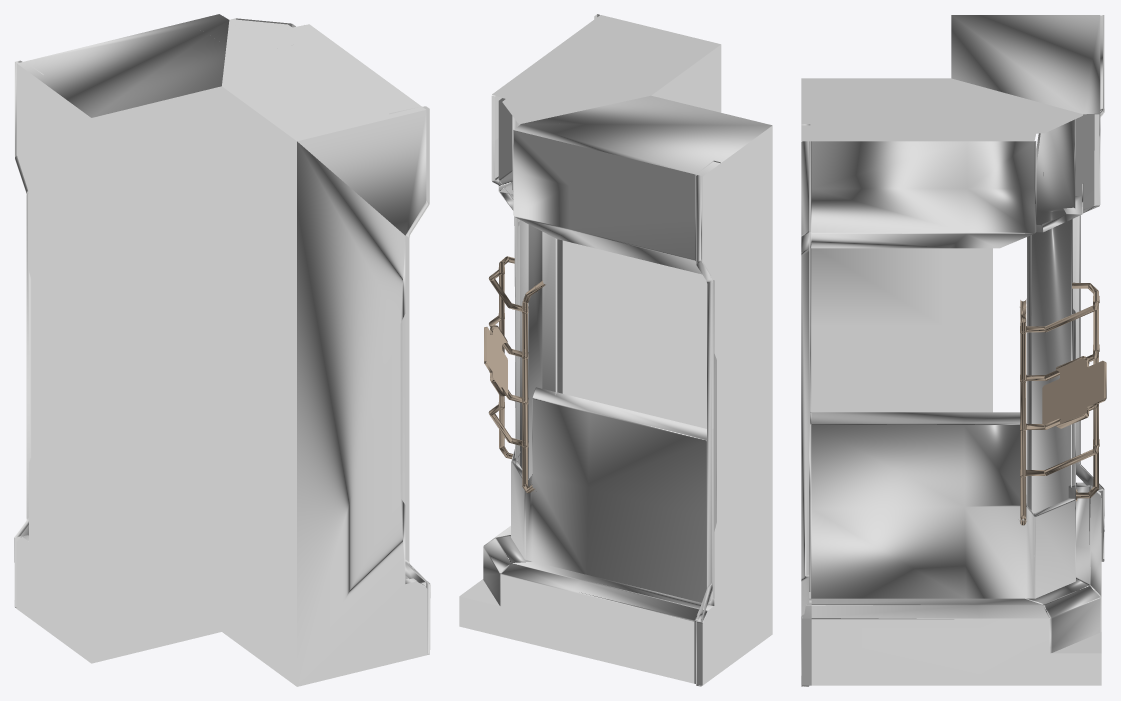
The model's file is roomsm_wall_cornerout_02x02x04_b.glb.
3 renders of one model, left to right at view 1: azimuth 30°, elevation 25°; view 2: azimuth 150°, elevation 25°; view 3: azimuth 270°, elevation 25°, orthographic. The views are drawn at different scales.
Bounding box in the file's own units: 2.02 × 4.01 × 2.03.
